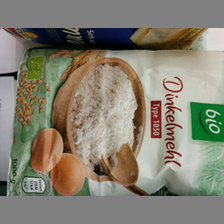flour: (8, 48, 224, 196)
